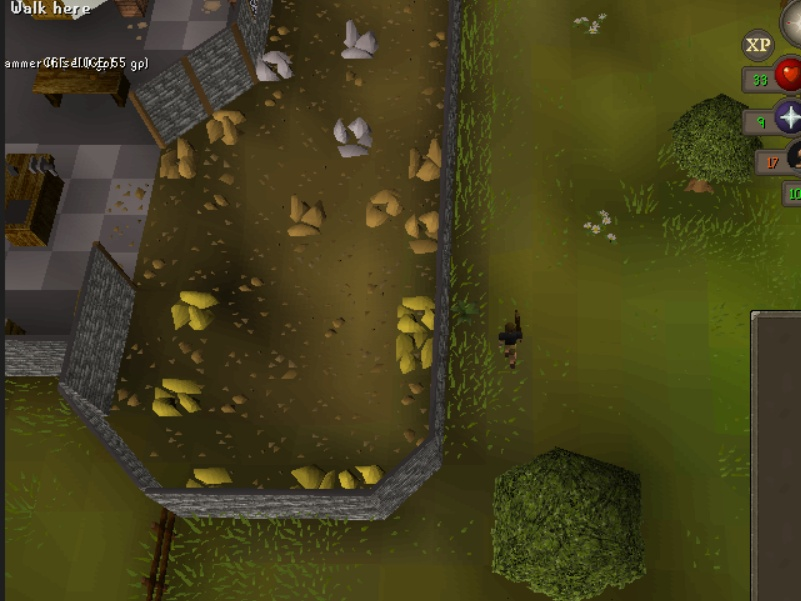clay: (154, 130, 204, 183), (200, 98, 250, 151), (279, 188, 329, 241), (397, 135, 447, 188), (353, 181, 403, 234), (400, 205, 446, 259)
gold: (164, 284, 220, 339), (150, 368, 206, 423), (389, 329, 438, 377), (391, 288, 441, 330), (183, 466, 235, 493), (336, 463, 388, 490), (288, 465, 340, 492)
silver: (251, 39, 301, 92), (333, 16, 383, 69), (329, 105, 379, 158)
